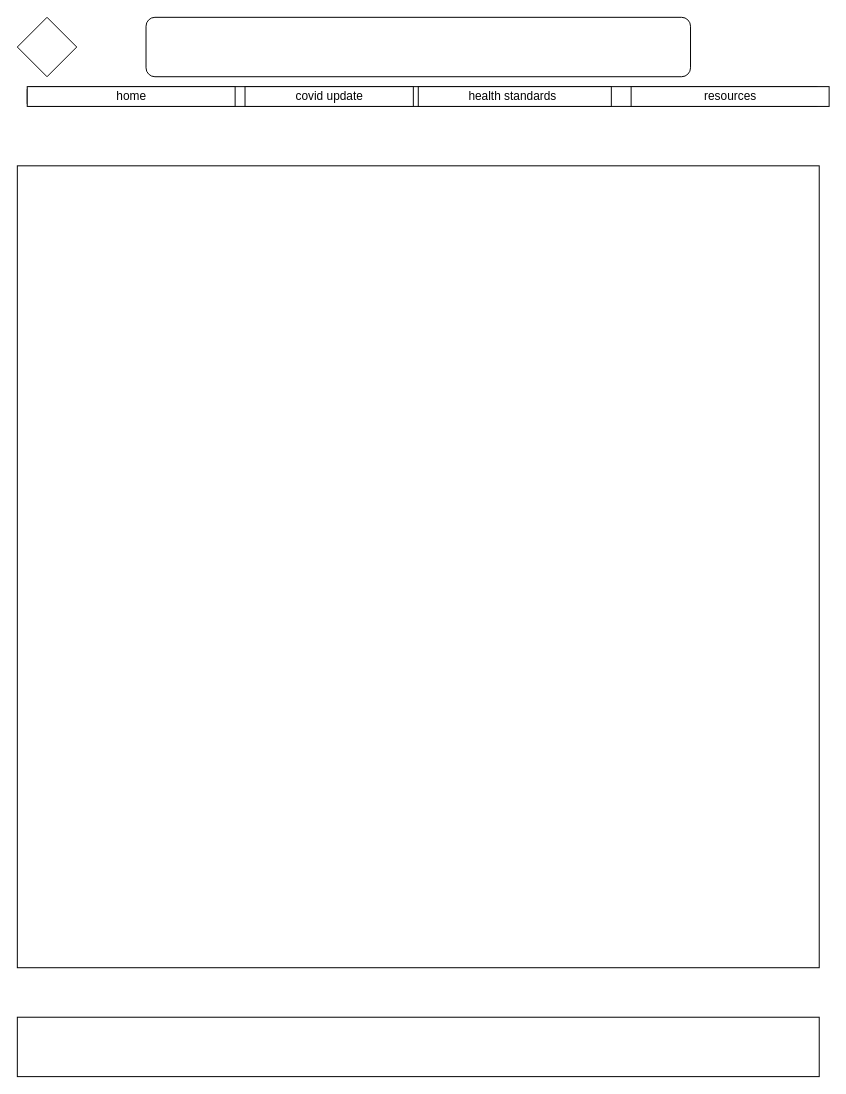
Image size: 846x1094. Some labels were removed from this diagram. Each missing label, with the centre of its shape:
footer: point (417, 1046)
ORGANIZATION NAME: point (418, 46)
